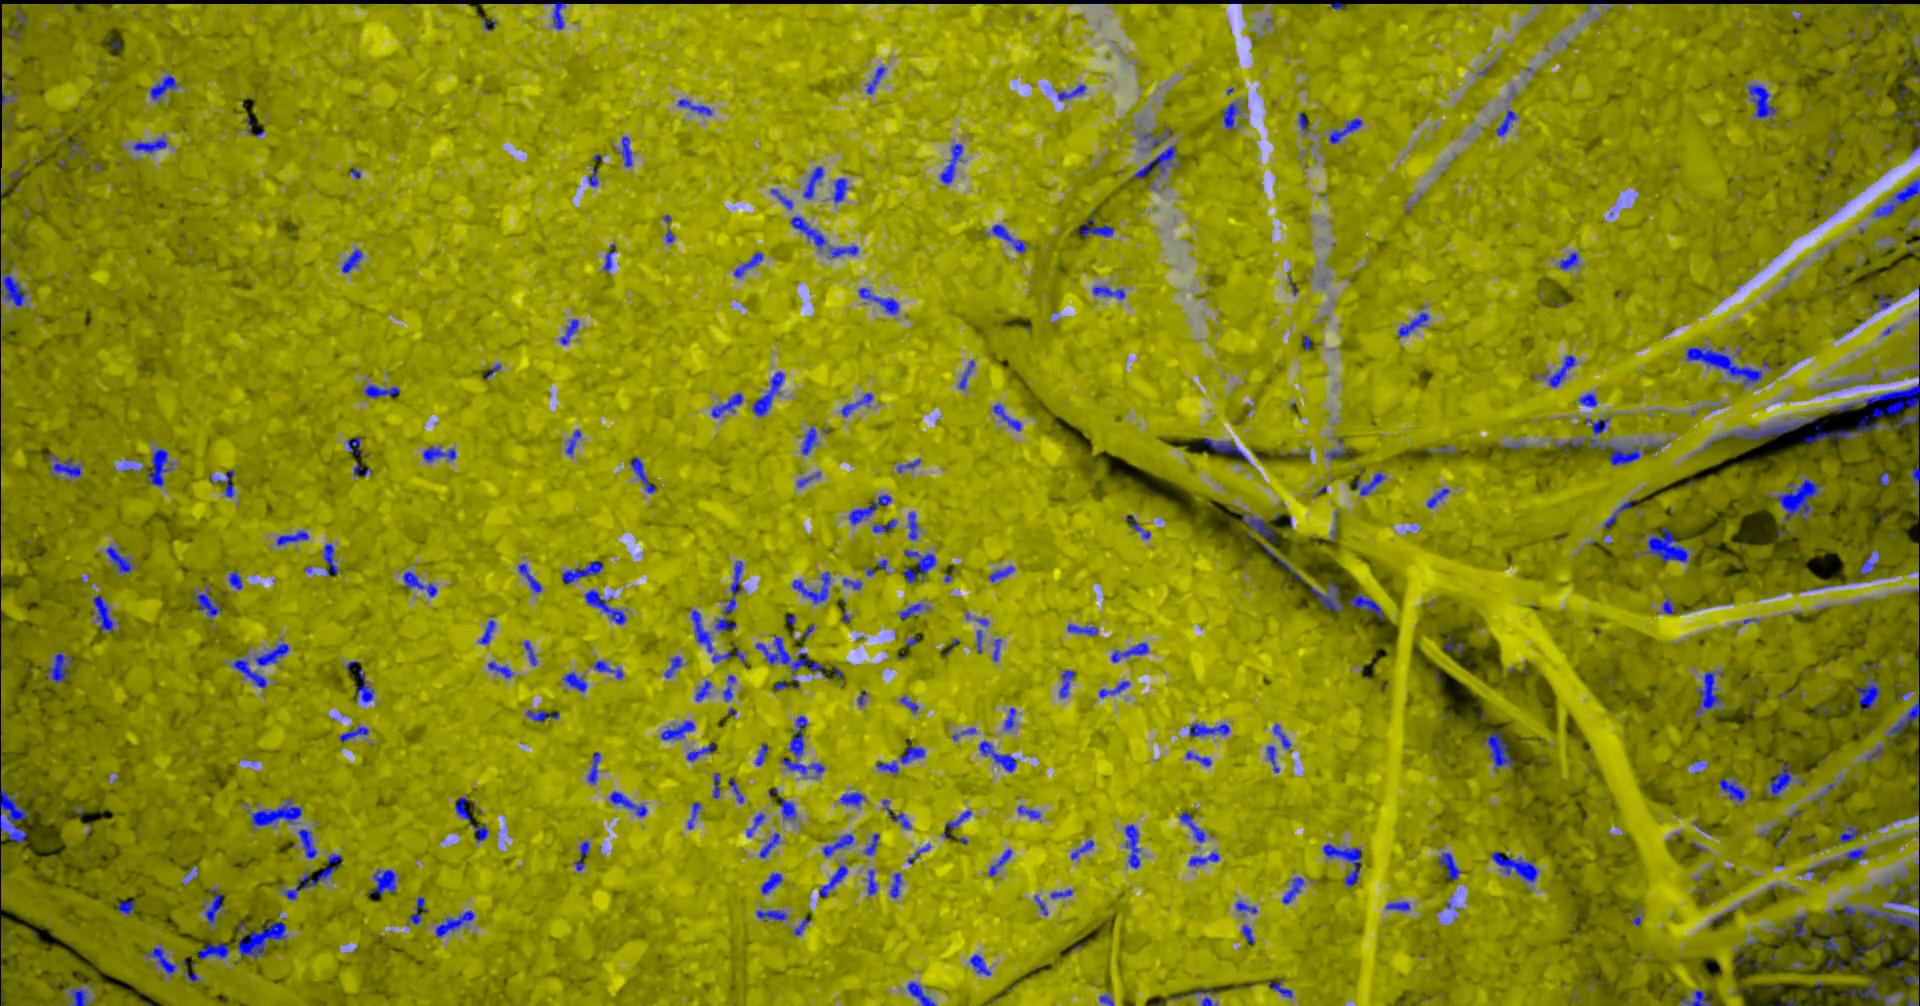ant: (1703, 414, 1818, 448), (756, 635, 823, 690), (1685, 345, 1763, 385), (1583, 417, 1644, 465), (282, 854, 342, 901), (781, 715, 823, 774), (1768, 478, 1818, 520), (714, 560, 743, 630), (237, 917, 286, 958), (0, 779, 28, 842), (1873, 179, 1919, 217), (249, 796, 301, 828), (1322, 843, 1360, 887), (1643, 526, 1688, 561), (1131, 145, 1178, 178), (750, 371, 783, 417), (1886, 699, 1919, 744), (1490, 851, 1538, 882), (584, 589, 626, 624), (1848, 978, 1901, 1005), (848, 494, 891, 525), (1850, 930, 1891, 962), (791, 572, 830, 603), (978, 741, 1016, 772), (1203, 437, 1250, 462), (1540, 354, 1576, 387), (1484, 729, 1514, 768), (790, 216, 825, 248), (143, 944, 177, 977), (858, 287, 899, 314), (1695, 671, 1721, 713), (434, 909, 474, 936), (1747, 84, 1777, 119), (990, 224, 1026, 253), (1239, 513, 1275, 542), (1603, 499, 1639, 527), (903, 549, 935, 580), (1309, 580, 1342, 611), (1763, 763, 1793, 796), (610, 790, 646, 817), (146, 448, 171, 486), (232, 658, 265, 687), (818, 864, 847, 897), (690, 610, 712, 652), (938, 144, 963, 183), (0, 271, 25, 307), (630, 456, 655, 493), (561, 560, 602, 583), (1328, 118, 1363, 144), (1349, 593, 1383, 619), (1350, 471, 1385, 495), (193, 589, 221, 620), (48, 452, 81, 478), (403, 570, 436, 596), (992, 403, 1021, 431), (254, 643, 290, 666), (44, 652, 71, 682), (1178, 810, 1204, 842), (1855, 678, 1879, 711), (202, 888, 223, 925), (1110, 641, 1148, 662), (91, 594, 113, 630), (1397, 312, 1429, 337), (711, 392, 743, 417), (841, 392, 872, 417), (149, 75, 178, 100), (733, 251, 762, 277), (905, 981, 936, 1005), (822, 833, 853, 856), (1124, 824, 1140, 868), (370, 869, 396, 895), (105, 546, 133, 572), (517, 563, 541, 592), (660, 720, 695, 741), (987, 848, 1011, 876), (803, 166, 823, 199), (1079, 217, 1112, 238), (210, 470, 234, 497), (1718, 777, 1745, 801), (1437, 852, 1462, 879), (543, 0, 565, 29), (899, 739, 924, 763), (677, 98, 711, 116), (1495, 109, 1517, 136), (132, 135, 166, 152), (356, 668, 373, 702), (592, 661, 623, 680), (1142, 126, 1170, 147), (196, 941, 229, 959), (1283, 876, 1304, 903), (297, 828, 316, 857), (422, 446, 455, 462), (865, 66, 885, 93), (1098, 680, 1129, 697), (409, 895, 428, 923), (686, 743, 715, 761), (342, 248, 362, 273), (1189, 723, 1229, 735), (946, 809, 971, 829), (559, 318, 578, 344), (616, 136, 632, 166), (276, 530, 309, 545), (323, 542, 338, 575), (1810, 935, 1840, 951), (1902, 974, 1919, 1005), (1222, 102, 1239, 130), (363, 384, 399, 398), (770, 188, 792, 210), (563, 671, 585, 692), (1130, 514, 1150, 539), (1787, 915, 1807, 939), (777, 795, 796, 821), (745, 812, 764, 837), (759, 832, 778, 857), (574, 840, 589, 871), (1679, 989, 1710, 1005), (957, 359, 974, 389), (1058, 669, 1074, 699), (1190, 988, 1219, 1005), (759, 873, 781, 894), (969, 954, 990, 976), (1870, 291, 1893, 311), (1426, 486, 1449, 507), (338, 725, 368, 741), (1189, 851, 1219, 866), (1057, 84, 1084, 100), (1092, 285, 1125, 298), (832, 177, 850, 202), (477, 619, 495, 644), (1272, 723, 1290, 748), (988, 565, 1015, 582), (1070, 840, 1093, 859), (907, 843, 930, 862), (1267, 979, 1291, 997), (801, 426, 817, 453), (899, 603, 927, 619), (524, 709, 557, 721), (1185, 749, 1210, 766), (565, 429, 580, 456), (1065, 622, 1097, 635), (587, 751, 599, 782), (488, 661, 512, 677), (828, 245, 858, 258), (1558, 251, 1578, 271), (1909, 464, 1919, 502), (728, 777, 743, 803), (839, 791, 865, 807), (663, 655, 681, 677), (1265, 746, 1279, 772), (796, 471, 820, 486), (455, 796, 470, 821), (1443, 634, 1462, 653), (890, 812, 910, 829), (1837, 824, 1858, 842), (695, 680, 711, 701), (602, 243, 615, 271), (951, 727, 977, 741), (756, 909, 786, 921), (723, 674, 735, 701), (687, 801, 700, 828), (1554, 439, 1583, 451), (1859, 553, 1874, 574), (863, 833, 879, 855), (523, 640, 536, 666), (865, 869, 877, 894), (889, 873, 902, 898), (897, 459, 919, 473), (792, 917, 810, 935), (899, 696, 918, 713), (471, 823, 488, 842), (69, 988, 88, 1005), (872, 520, 897, 532), (876, 760, 898, 774), (1236, 901, 1257, 915), (907, 511, 917, 540), (227, 570, 243, 589), (1016, 805, 1039, 818), (1577, 392, 1597, 406), (1324, 448, 1352, 459), (65, 140, 83, 155), (347, 436, 361, 455), (116, 901, 135, 915), (1241, 923, 1255, 942), (1662, 596, 1676, 614), (1865, 746, 1883, 760), (1297, 111, 1308, 132), (1004, 708, 1016, 729), (756, 743, 767, 765), (1844, 848, 1865, 860), (1385, 901, 1410, 911), (1825, 956, 1843, 969), (587, 166, 598, 185), (842, 578, 861, 589), (903, 567, 916, 583), (992, 638, 1001, 661), (1862, 662, 1879, 673), (1049, 889, 1072, 898), (711, 652, 730, 662), (712, 772, 720, 798), (1098, 993, 1112, 1005), (1879, 471, 1890, 485), (977, 629, 982, 653), (0, 929, 1, 1005), (1076, 0, 1105, 3)
